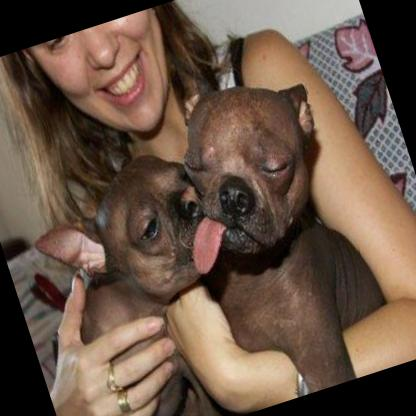Mexican_hairless: (140, 58, 395, 414), (13, 137, 267, 416)
